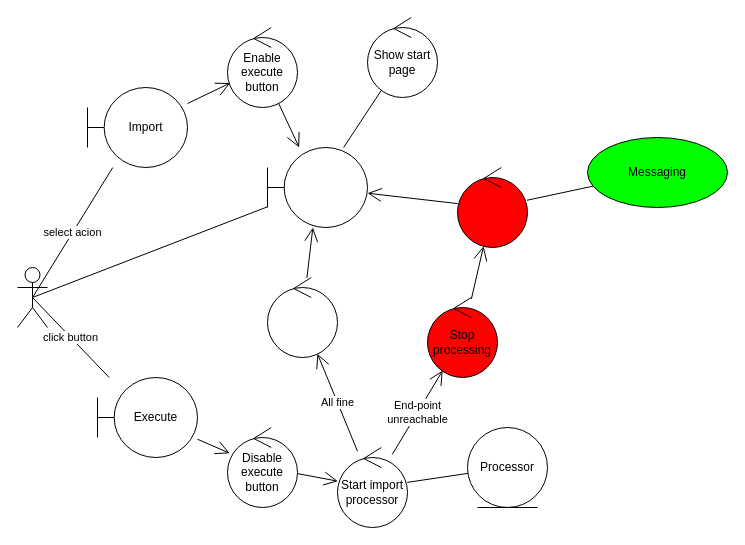
Some shapes in this 745 by 545 pixel diagram are drawn without their labels. The centre of each missing label's shape, as x and y in pixels:
Show error in monitor area: the point at 492,207
Start page: the point at 317,187
Update progress bar: the point at 302,317
User: the point at 32,297
